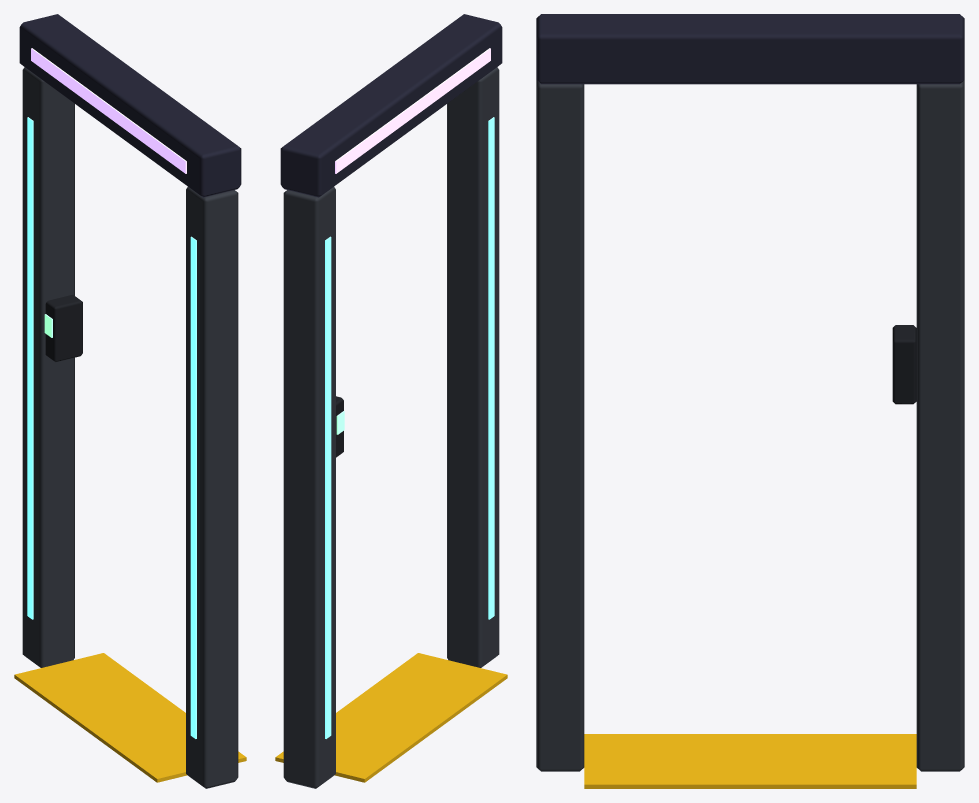
File: station_special_ausstattung_2_3.glb
3 renders of one model, left to right at view 1: azimuth 30°, elevation 25°; view 2: azimuth 150°, elevation 25°; view 3: azimuth 270°, elevation 25°, orthographic. The views are drawn at different scales.
Visible parts, largest first — view 1: station_special_ausstattung_2_3; view 2: station_special_ausstattung_2_3; view 3: station_special_ausstattung_2_3.
Boxes of the visible parts, bbox=[...] form: station_special_ausstattung_2_3: bbox=[14, 14, 246, 788]; station_special_ausstattung_2_3: bbox=[275, 14, 507, 788]; station_special_ausstattung_2_3: bbox=[536, 14, 964, 788].
Bounding box in the file's own units: 0.3 × 2.04 × 1.07.
